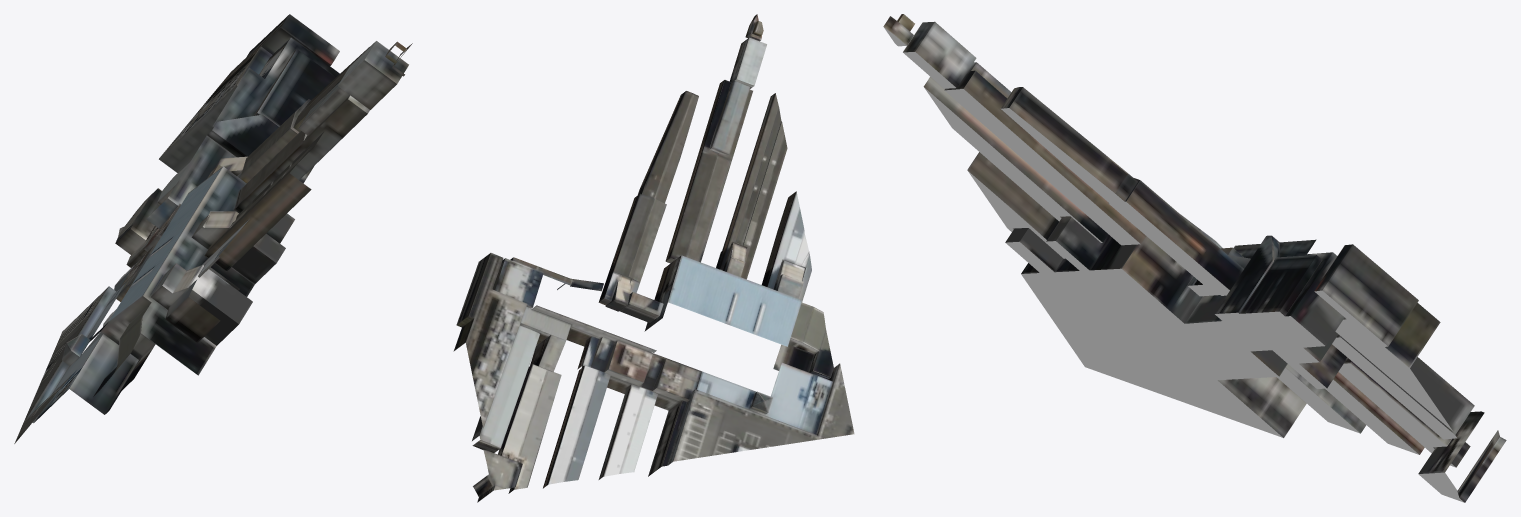
Rendered from 39529_bldg_Building.glb.
The picture shows the model from 3 angles, left to right: view 1: azimuth 30°, elevation 25°; view 2: azimuth 150°, elevation 25°; view 3: azimuth 270°, elevation 25°; orthographic projection. The views are drawn at different scales.
Parts seen in each view (by area): view 1: Mesh_0; view 2: Mesh_0; view 3: Mesh_0.
Part boxes in pixels (box(x1,y1,x2,y2)): Mesh_0: box(14, 14, 412, 443); Mesh_0: box(453, 14, 854, 502); Mesh_0: box(883, 14, 1506, 502).
Bounding box in the file's own units: 115 × 123 × 155.
Materials: 2 (1 with a texture image).
